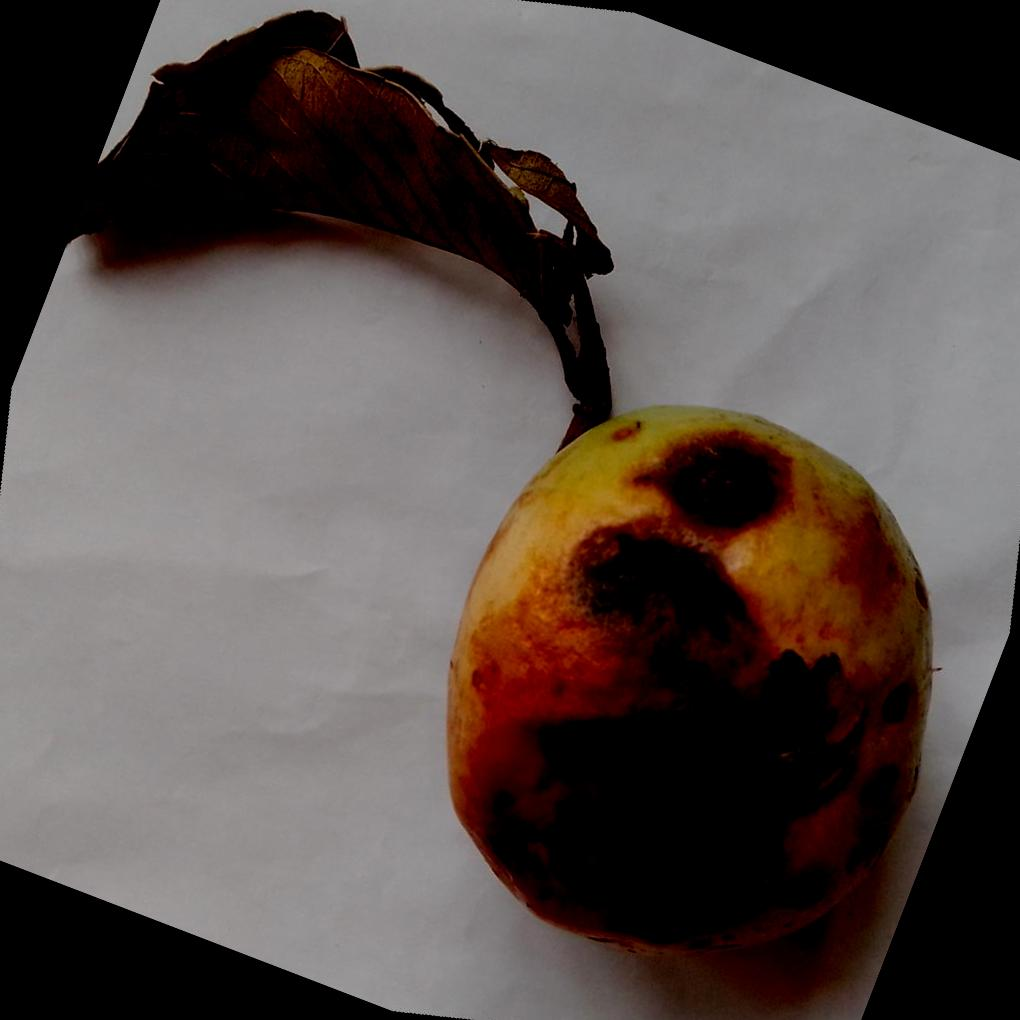FreshOrange: (447, 402, 936, 956)
